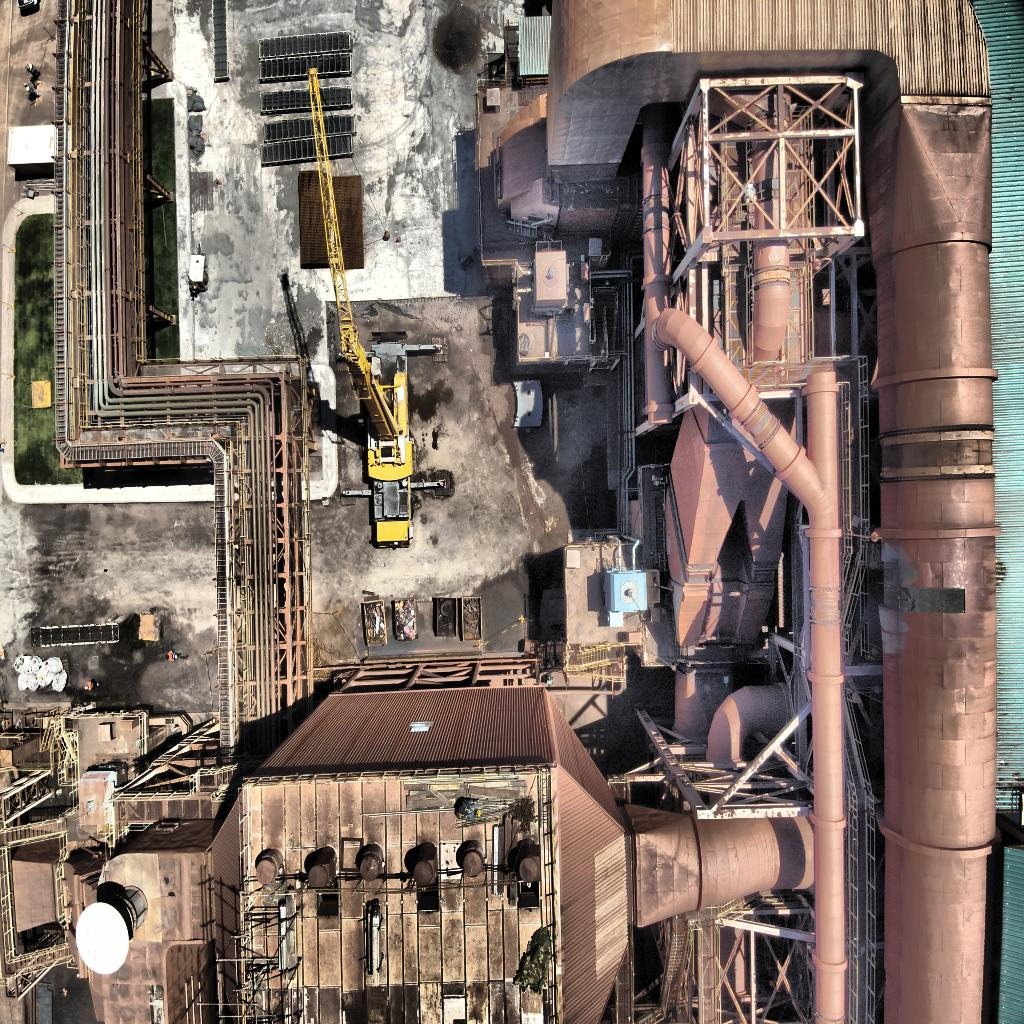Failures: (896, 585, 966, 615), (149, 983, 166, 1024)
